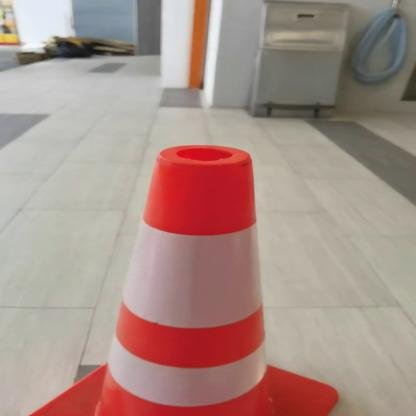cone: (9, 140, 364, 416)
